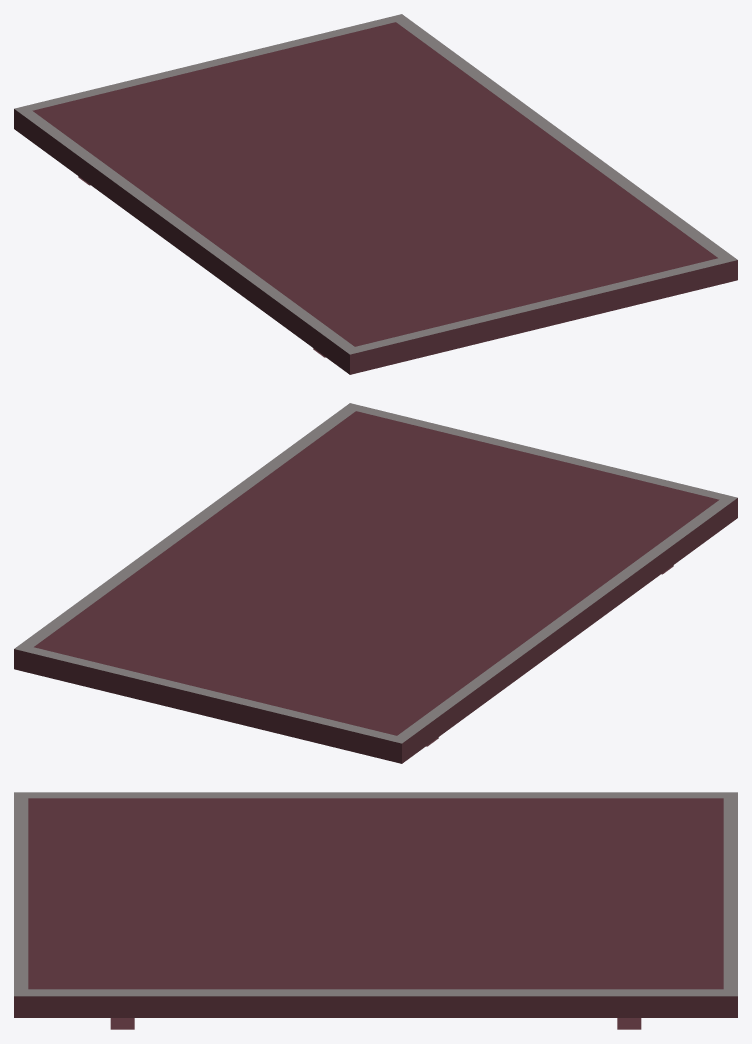
Rendered from props-solar-panel-house.glb.
3 views of the same model, one above another, from view 1: azimuth 30°, elevation 25°; view 2: azimuth 150°, elevation 25°; view 3: azimuth 270°, elevation 25° (orthographic). The views are drawn at different scales.
Visible parts, largest first — view 1: solar-panel-house; view 2: solar-panel-house; view 3: solar-panel-house.
Part boxes in pixels (left/top/right/bottom): solar-panel-house: left=14, top=14, right=737, bottom=374; solar-panel-house: left=14, top=403, right=737, bottom=763; solar-panel-house: left=14, top=792, right=737, bottom=1029.
Size of the model in its own units: 1 by 0.1 by 1.5.
